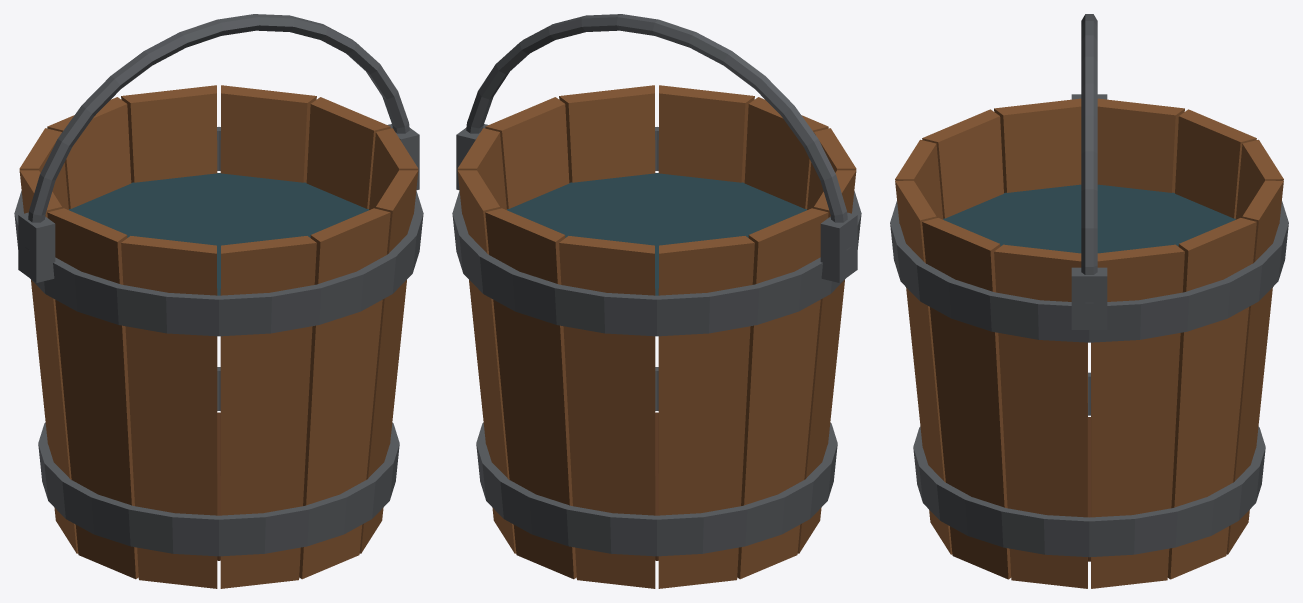
The model's file is water-bucket_final.glb.
The picture shows the model from 3 angles, left to right: view 1: azimuth 30°, elevation 25°; view 2: azimuth 150°, elevation 25°; view 3: azimuth 270°, elevation 25°; orthographic projection. The views are drawn at different scales.
Parts seen in each view (by area): view 1: SM_WaterBucket_Staves, SM_WaterBucket_Hoop_02, SM_WaterBucket_Hoop_01, SM_WaterBucket_Water, SM_WaterBucket_Handle, SM_WaterBucket_Lug_02, SM_WaterBucket_Lug_01; view 2: SM_WaterBucket_Staves, SM_WaterBucket_Hoop_02, SM_WaterBucket_Hoop_01, SM_WaterBucket_Water, SM_WaterBucket_Handle, SM_WaterBucket_Lug_02, SM_WaterBucket_Lug_01; view 3: SM_WaterBucket_Staves, SM_WaterBucket_Hoop_02, SM_WaterBucket_Hoop_01, SM_WaterBucket_Water, SM_WaterBucket_Handle, SM_WaterBucket_Lug_01.
Part boxes in pixels (left/top/right/bottom): SM_WaterBucket_Staves: left=19, top=85, right=418, bottom=588; SM_WaterBucket_Hoop_02: left=14, top=127, right=423, bottom=336; SM_WaterBucket_Hoop_01: left=38, top=367, right=399, bottom=556; SM_WaterBucket_Water: left=69, top=173, right=368, bottom=295; SM_WaterBucket_Handle: left=25, top=14, right=409, bottom=250; SM_WaterBucket_Lug_02: left=18, top=212, right=55, bottom=282; SM_WaterBucket_Lug_01: left=387, top=124, right=419, bottom=190; SM_WaterBucket_Staves: left=457, top=85, right=856, bottom=588; SM_WaterBucket_Hoop_02: left=452, top=127, right=861, bottom=336; SM_WaterBucket_Hoop_01: left=476, top=367, right=837, bottom=556; SM_WaterBucket_Water: left=507, top=173, right=806, bottom=295; SM_WaterBucket_Handle: left=466, top=14, right=850, bottom=250; SM_WaterBucket_Lug_02: left=820, top=212, right=857, bottom=282; SM_WaterBucket_Lug_01: left=456, top=124, right=488, bottom=190; SM_WaterBucket_Staves: left=895, top=98, right=1283, bottom=588; SM_WaterBucket_Hoop_02: left=890, top=201, right=1288, bottom=342; SM_WaterBucket_Hoop_01: left=913, top=372, right=1265, bottom=557; SM_WaterBucket_Water: left=943, top=184, right=1235, bottom=253; SM_WaterBucket_Handle: left=1081, top=14, right=1097, bottom=303; SM_WaterBucket_Lug_01: left=1071, top=267, right=1107, bottom=329.
Bounding box in the file's own units: 0.3661 × 0.4554 × 0.3385.
